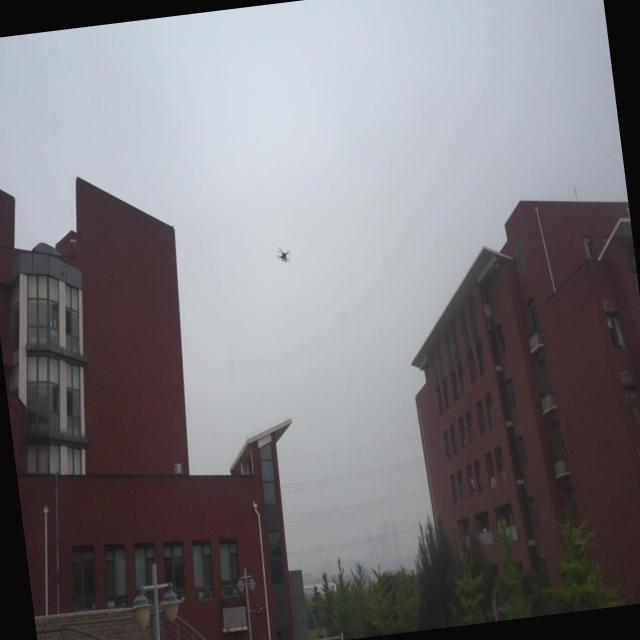drone: (272, 242, 292, 268)
